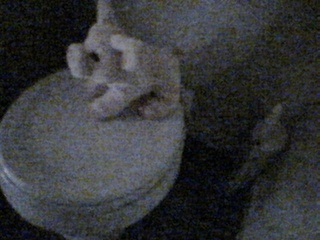piggy: (65, 1, 185, 121)
